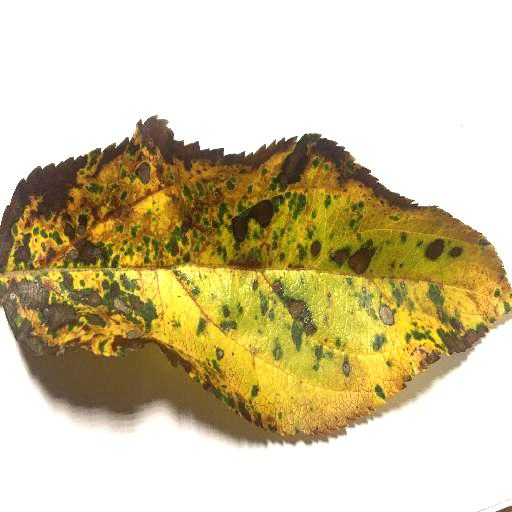Brown_Spot: (4, 137, 231, 360), (264, 143, 343, 192), (353, 164, 424, 216), (262, 285, 316, 343), (418, 333, 486, 368), (310, 238, 377, 272), (242, 197, 289, 245), (419, 234, 470, 259), (375, 305, 395, 328)
